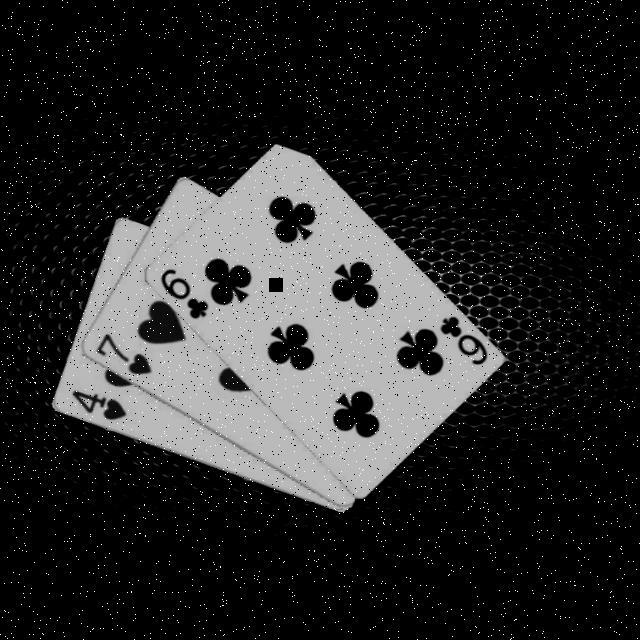4H: (67, 386, 129, 422)
6C: (156, 264, 212, 322), (435, 310, 491, 366)
7H: (91, 328, 155, 376)
